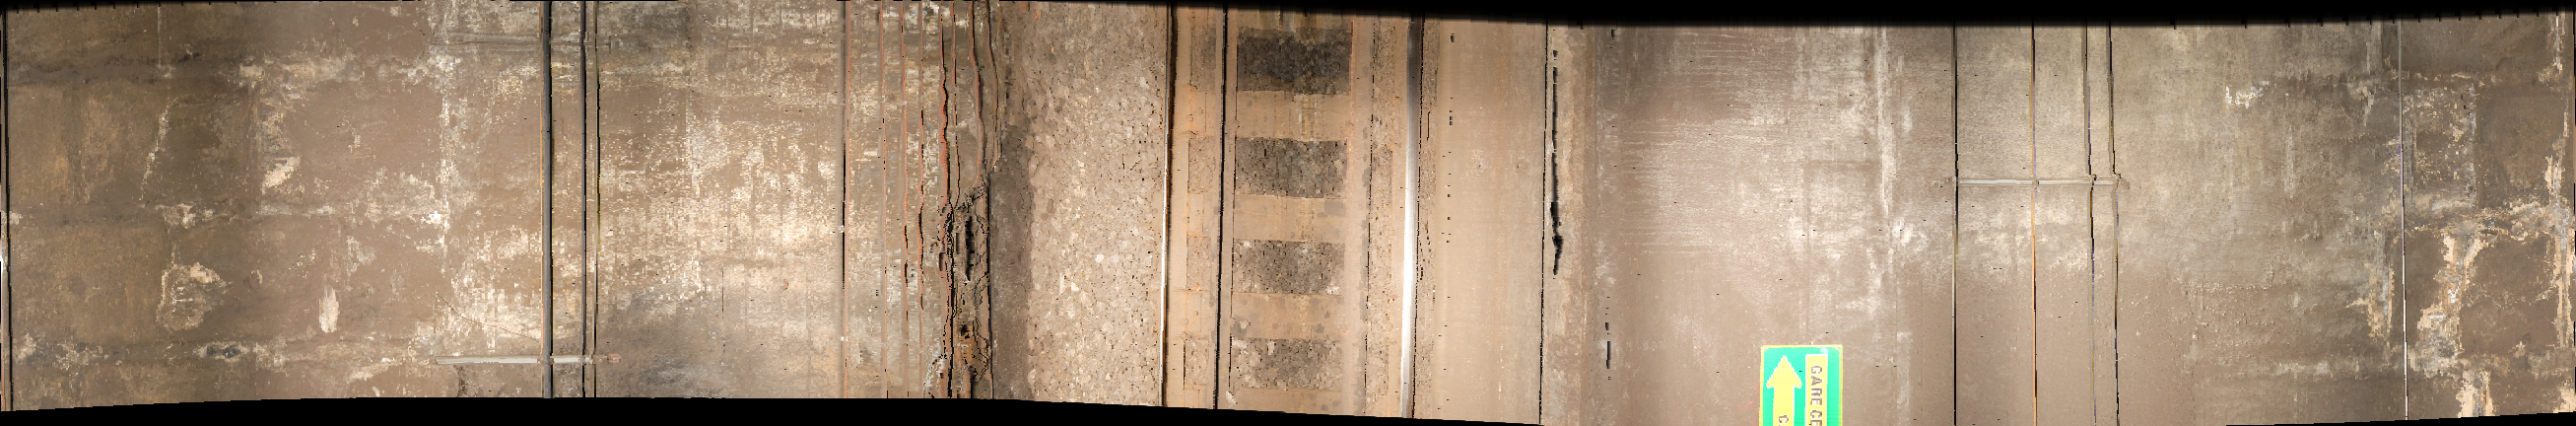pipes: (836, 2, 1010, 426), (534, 2, 605, 419), (2080, 30, 2129, 426), (1943, 30, 1968, 426), (2021, 30, 2045, 426)
sign: (1764, 342, 1842, 426)
tracks: (1162, 7, 1446, 426)
